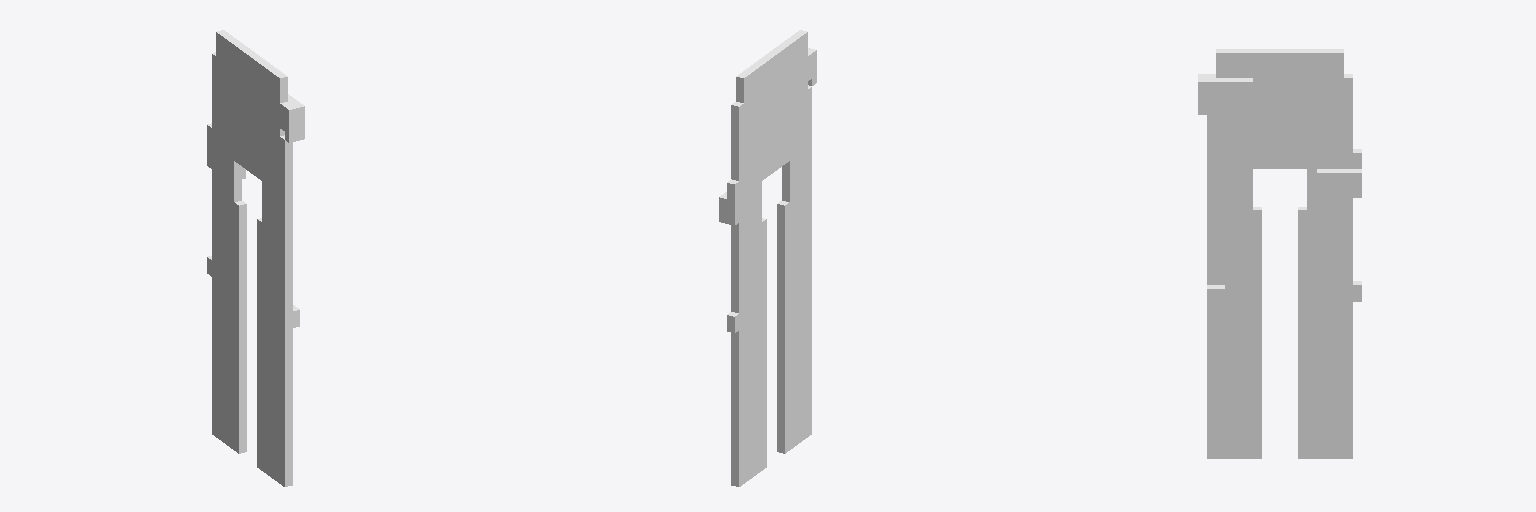
File: SmallBuilding04-3.obj
3 renders of one model, left to right at view 1: azimuth 30°, elevation 25°; view 2: azimuth 150°, elevation 25°; view 3: azimuth 270°, elevation 25°, orthographic.
Parts seen in each view (by area): view 1: object 1; view 2: object 1; view 3: object 1.
Boxes of the visible parts, <box> form: object 1: <box>207,30,304,486</box>; object 1: <box>719,30,816,486</box>; object 1: <box>1198,49,1361,458</box>.
Size of the model in its own units: 0.2 by 4.9 by 1.8.